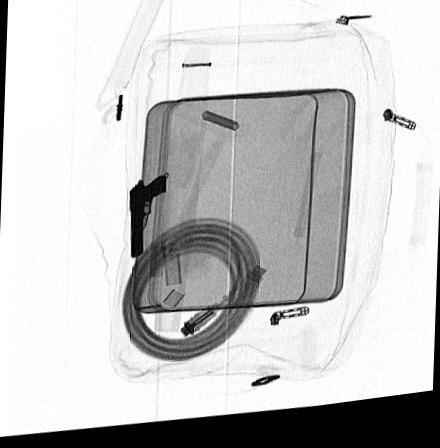Gun: (129, 178, 166, 262)
